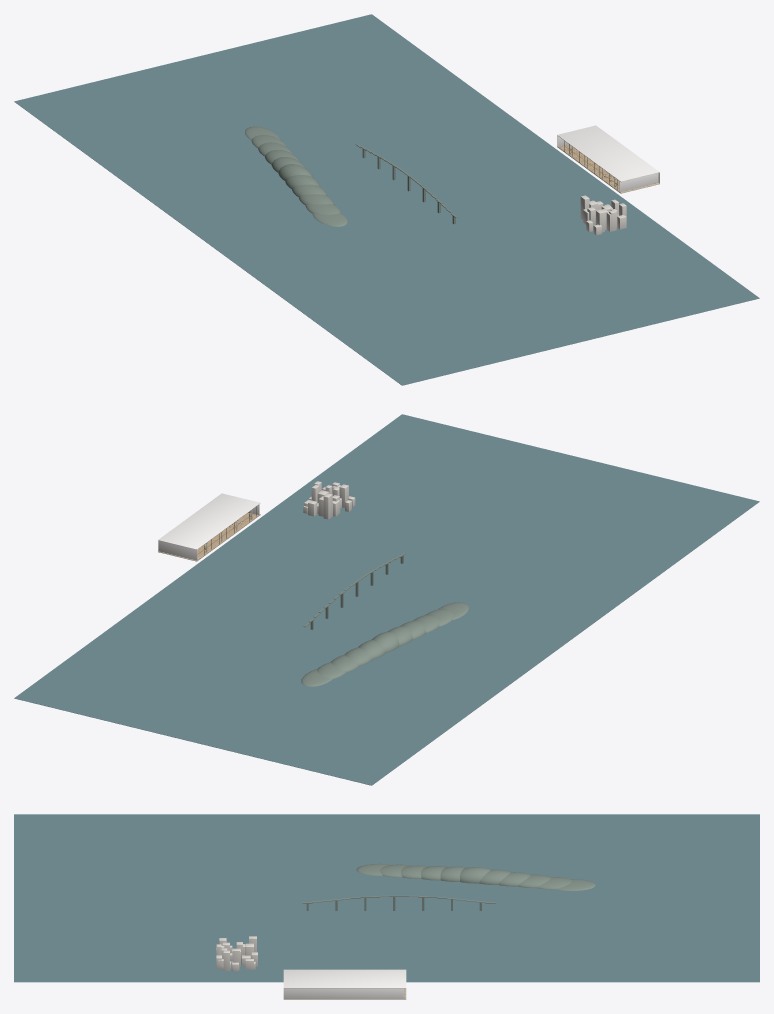
The model's file is scandi-office.glb.
3 views of the same model, one above another, from view 1: azimuth 30°, elevation 25°; view 2: azimuth 150°, elevation 25°; view 3: azimuth 270°, elevation 25° (orthographic). The views are drawn at different scales.
Parts seen in each view (by area): view 1: Waitemata harbour, Scandi distant island mesh, Scandi limewash paper mesh, Scandi chalk mineral mesh; view 2: Waitemata harbour, Scandi distant island mesh, Scandi limewash paper mesh, Scandi chalk mineral mesh; view 3: Waitemata harbour, Scandi distant island mesh, Scandi limewash paper mesh, Scandi chalk mineral mesh.
Part boxes in pixels (x1,y1,x2,y2): Waitemata harbour: [14, 14, 759, 385]; Scandi distant island mesh: [245, 126, 457, 226]; Scandi limewash paper mesh: [557, 125, 659, 192]; Scandi chalk mineral mesh: [580, 195, 626, 235]; Waitemata harbour: [14, 414, 759, 785]; Scandi distant island mesh: [301, 553, 468, 686]; Scandi limewash paper mesh: [158, 493, 260, 560]; Scandi chalk mineral mesh: [303, 481, 355, 519]; Waitemata harbour: [14, 814, 759, 982]; Scandi distant island mesh: [302, 863, 595, 910]; Scandi limewash paper mesh: [283, 969, 406, 998]; Scandi chalk mineral mesh: [216, 936, 257, 971].
Bounding box in the file's own units: 184 × 14.14 × 310.
